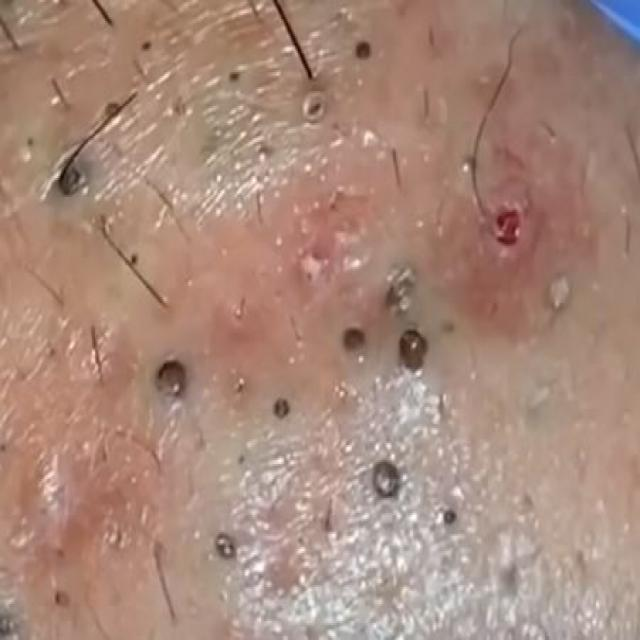dark spot: (150, 354, 192, 414), (362, 453, 406, 501), (48, 150, 90, 200), (335, 320, 376, 370), (393, 327, 430, 372), (211, 526, 247, 567), (270, 385, 297, 421), (354, 29, 379, 65)
